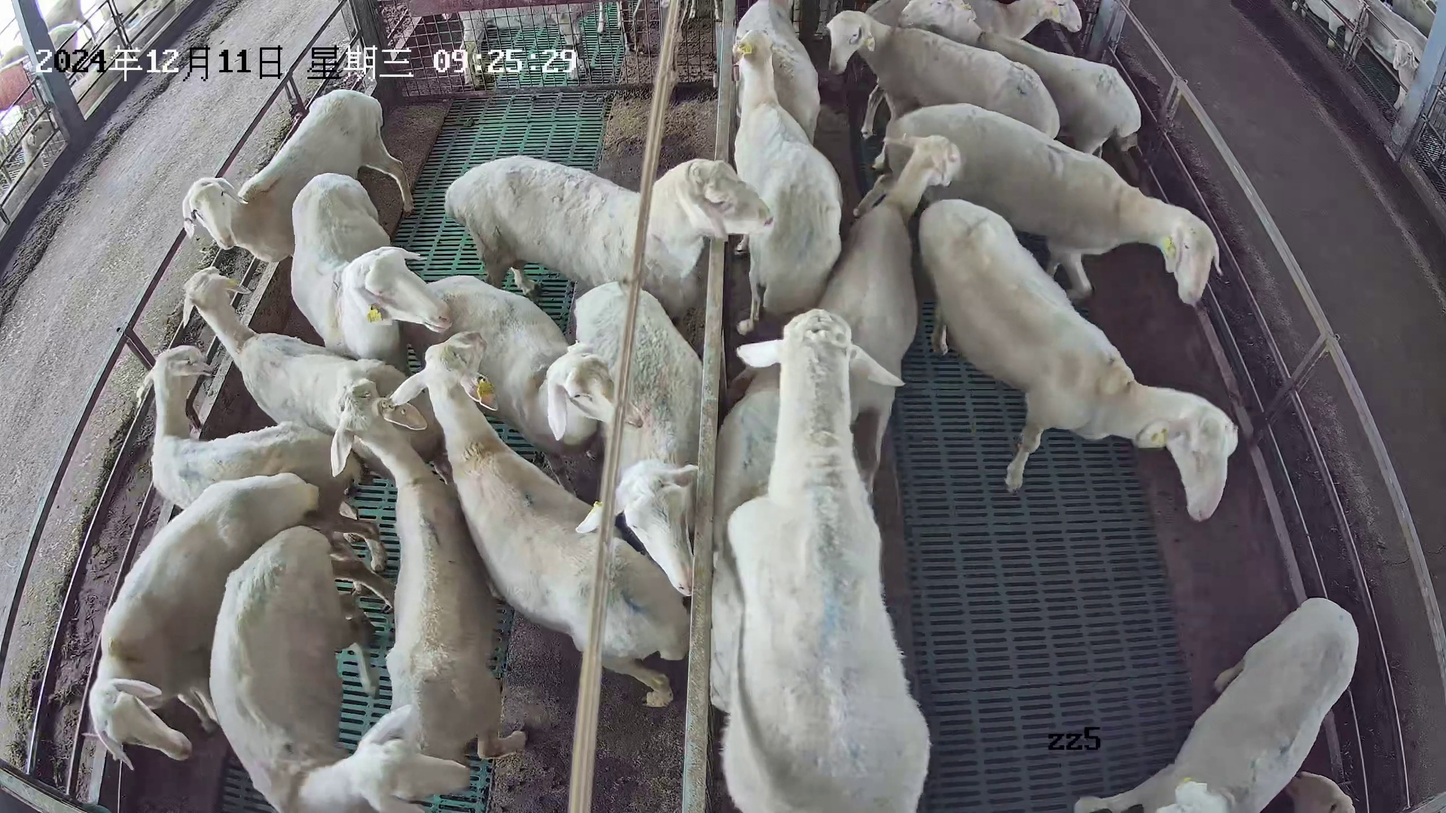Smounting: (708, 306, 933, 813)
mounted: (712, 363, 785, 715)
